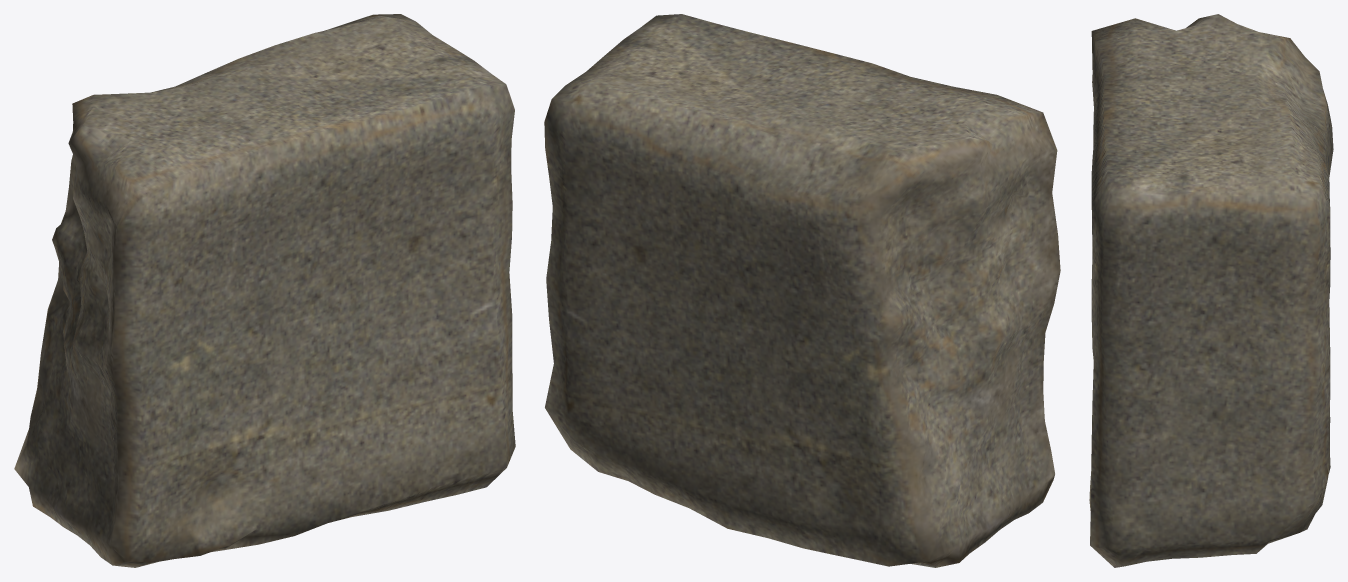
File: Brick1.fbx
The picture shows the model from 3 angles, left to right: view 1: azimuth 30°, elevation 25°; view 2: azimuth 150°, elevation 25°; view 3: azimuth 270°, elevation 25°; orthographic projection. The views are drawn at different scales.
Parts seen in each view (by area): view 1: Brick1; view 2: Brick1; view 3: Brick1.
Boxes of the visible parts, x1,y1,x2,y2 form: Brick1: [14, 14, 515, 567]; Brick1: [544, 14, 1060, 567]; Brick1: [1089, 14, 1333, 567].
Bounding box in the file's own units: 8.41 × 7.94 × 4.51.
